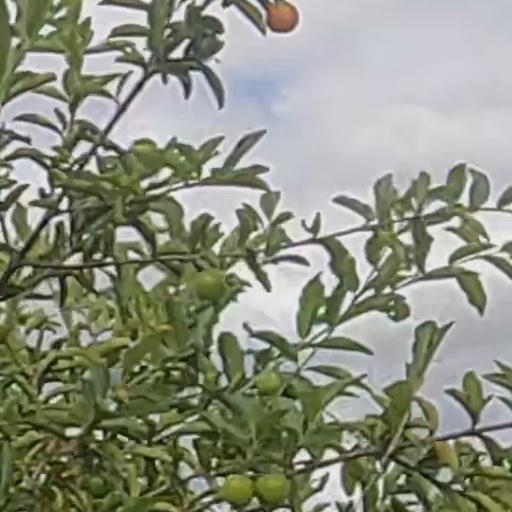acerola: (257, 475, 291, 507), (195, 266, 222, 301), (266, 3, 297, 32), (221, 475, 250, 505), (256, 372, 279, 392)
